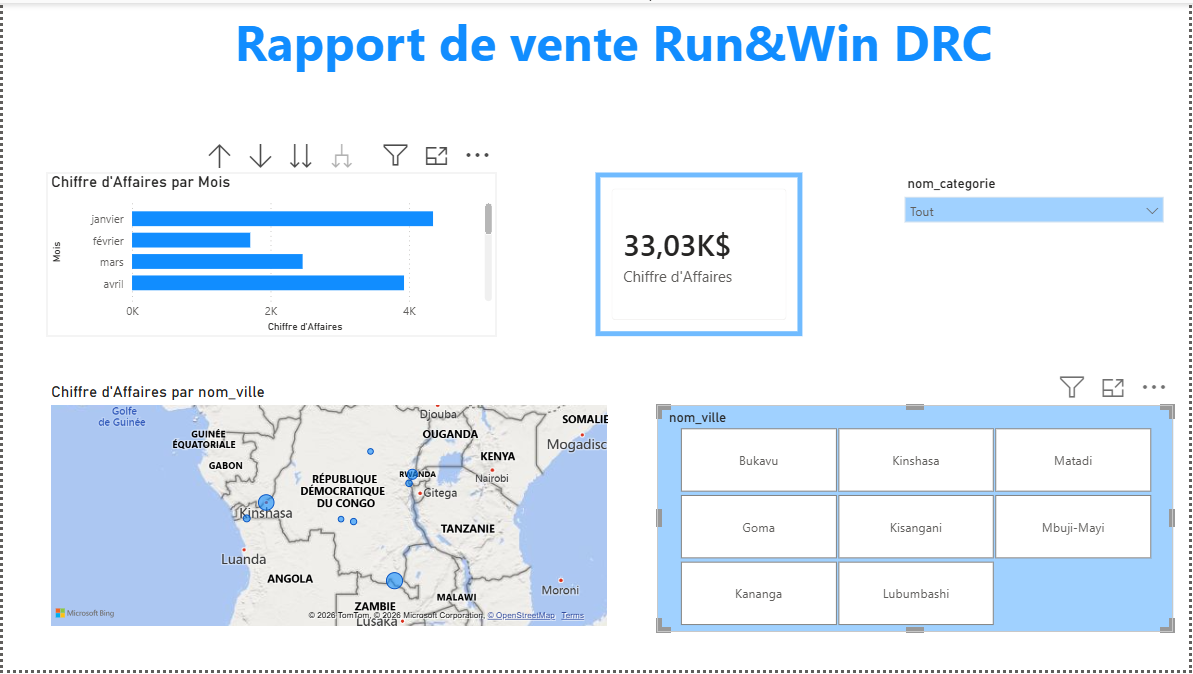

What the dashboard file says about the page in this screenshot:
{"tool":"powerbi","page":{"name":"Page 1","canvas":[1280,720],"ordinal":0},"visuals":[{"type":"textbox","box":[100.4,0,1114,85.8],"z":0},{"type":"cardVisual","fields":{"Data":["public ventes.Chiffre d'Affaires"]},"box":[650.9,183,223.5,176.5],"z":1000},{"type":"barChart","fields":{"Category":["public ventes.date_vente.Variation.Hiérarchie de dates.Année","public ventes.date_vente.Variation.Hiérarchie de dates.Trimestre","public ventes.date_vente.Variation.Hiérarchie de dates.Mois","public ventes.date_vente.Variation.Hiérarchie de dates.Jour"],"Y":["public ventes.Chiffre d'Affaires"]},"box":[47,183,485.8,176.5],"z":2000},{"type":"map","fields":{"Category":["public villes.nom_ville"],"Size":["public ventes.Chiffre d'Affaires"]},"box":[47.2,410.1,610.4,268.3],"z":3000},{"type":"slicer","fields":{"Values":["public villes.nom_ville"]},"box":[706,434,557,244.5],"z":4000},{"type":"slicer","fields":{"Values":["public categories.nom_categorie"]},"box":[963.4,181.4,299.6,178.1],"z":5000}]}

Visuals, with their boxes on the page's 1280x720 design canvas (x1, y1, x2, y2). These are canvas units, not pixel positions in the 1193x674 screenshot, which may show the page scaled, cropped or inside an application window:
textbox: bbox=(100, 0, 1214, 86)
cardVisual - public ventes.Chiffre d'Affaires: bbox=(651, 183, 874, 360)
barChart - public ventes.date_vente.Variation.Hiérarchie de dates.Année x public ventes.date_vente.Variation.Hiérarchie de dates.Trimestre: bbox=(47, 183, 533, 360)
map - public villes.nom_ville x public ventes.Chiffre d'Affaires: bbox=(47, 410, 658, 678)
slicer - public villes.nom_ville: bbox=(706, 434, 1263, 678)
slicer - public categories.nom_categorie: bbox=(963, 181, 1263, 360)
